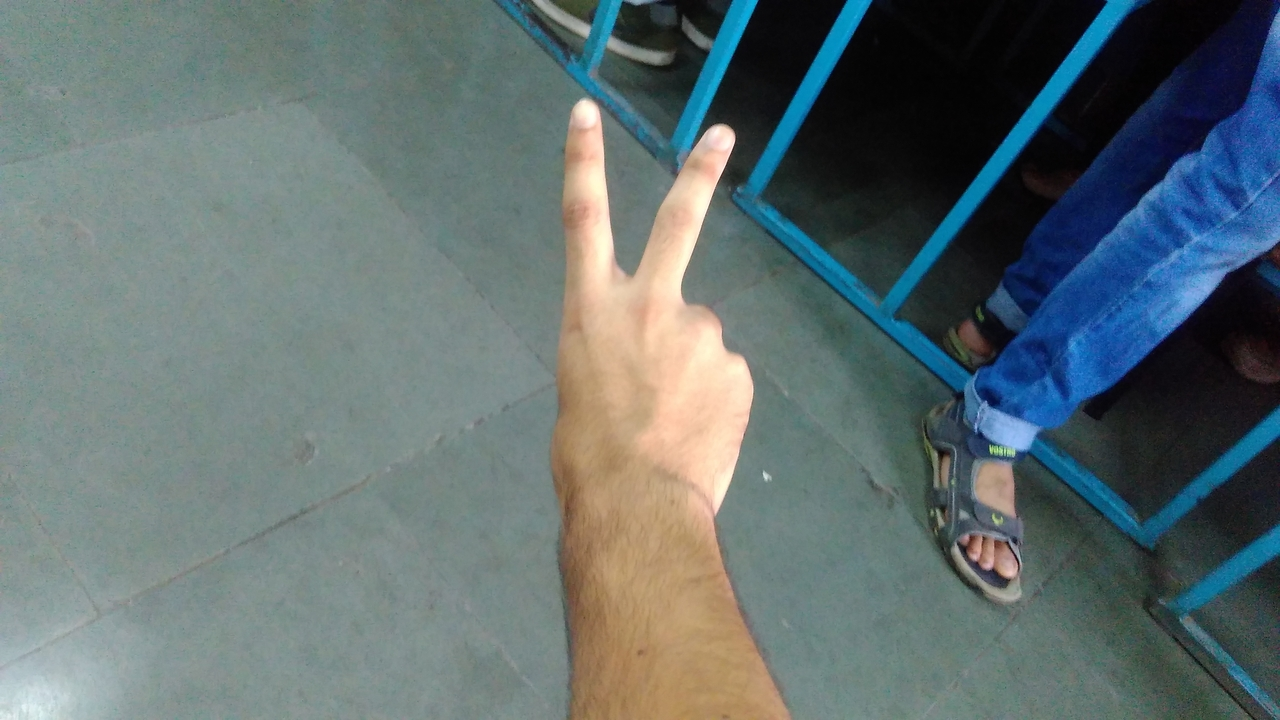fingertip: (678, 112, 748, 168), (556, 86, 606, 140)
